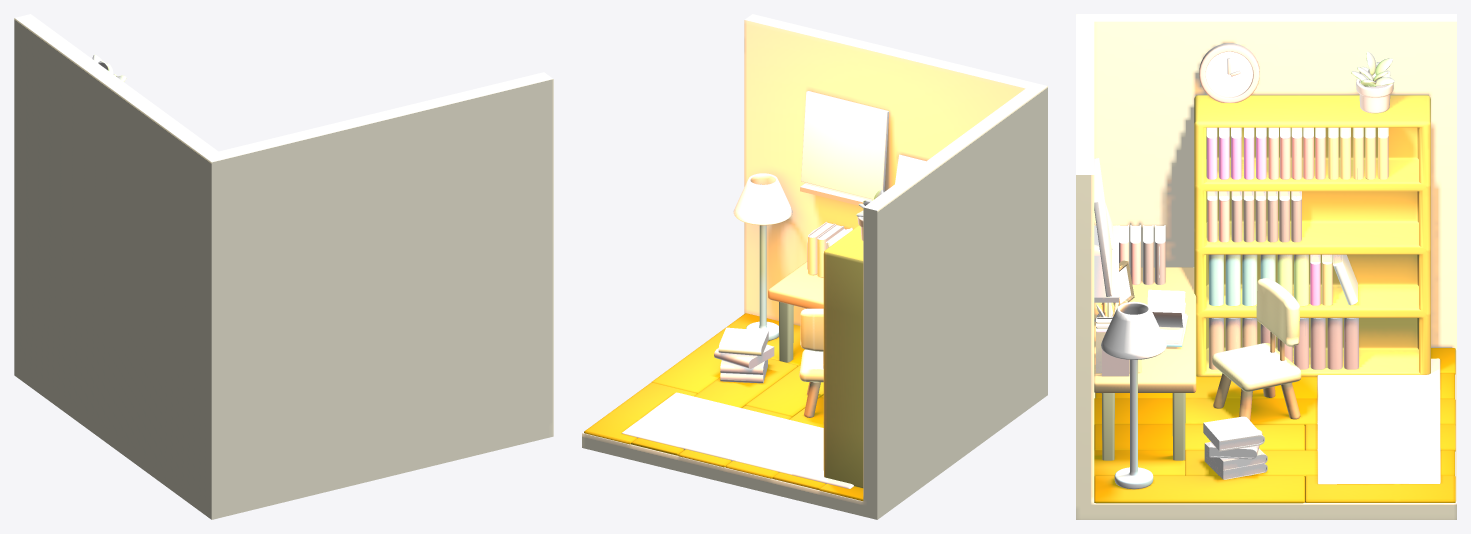
File: room_reading.gltf
3 views of the same model, side by side, from view 1: azimuth 30°, elevation 25°; view 2: azimuth 150°, elevation 25°; view 3: azimuth 270°, elevation 25° (orthographic). The views are drawn at different scales.
Parts seen in each view (by area): view 1: room'.3; view 2: room'.3, floor, Cube.5, Cube.2, canvas.4-Mat.13, Cylinder (×2), table chair-Mat, table chair-Mat.1, Cube.21, table chair-Mat.3, Cube.20, Cube.1 (+1 smaller); view 3: room'.3, Cube.5, floor, Cube.2, table chair-Mat.1 (×2), Cylinder (×3), table chair-Mat, clock.1, Cube.21 (×2), table chair-Mat.3, Plane, canvas.4-Mat.13 (+39 smaller).
Boxes of the visible parts, x1,y1,x2,y2 form: room'.3: (14, 14, 553, 519); room'.3: (582, 14, 1047, 519); floor: (584, 313, 863, 501); Cube.5: (823, 225, 863, 487); Cube.2: (621, 392, 853, 488); canvas.4-Mat.13: (801, 91, 925, 199); Cylinder (×2): (733, 173, 792, 340); table chair-Mat: (799, 308, 823, 382); table chair-Mat.1: (768, 261, 823, 308); Cube.21: (718, 327, 768, 356); table chair-Mat.3: (779, 302, 793, 362); Cube.20: (714, 344, 774, 368); Cube.1: (800, 183, 872, 205); room'.3: (1076, 14, 1456, 519); Cube.5: (1194, 95, 1430, 376); floor: (1094, 348, 1455, 503); Cube.2: (1317, 358, 1440, 484); table chair-Mat.1 (×2): (1094, 267, 1300, 420); Cylinder (×3): (1101, 77, 1393, 489); table chair-Mat: (1193, 267, 1301, 391); clock.1: (1199, 43, 1259, 102); Cube.21 (×2): (1203, 127, 1264, 451); table chair-Mat.3: (1101, 393, 1185, 460); Plane: (1147, 289, 1188, 346); canvas.4-Mat.13: (1094, 158, 1112, 296).
Bounding box in the file's own units: 10.5 × 10.5 × 10.5.
